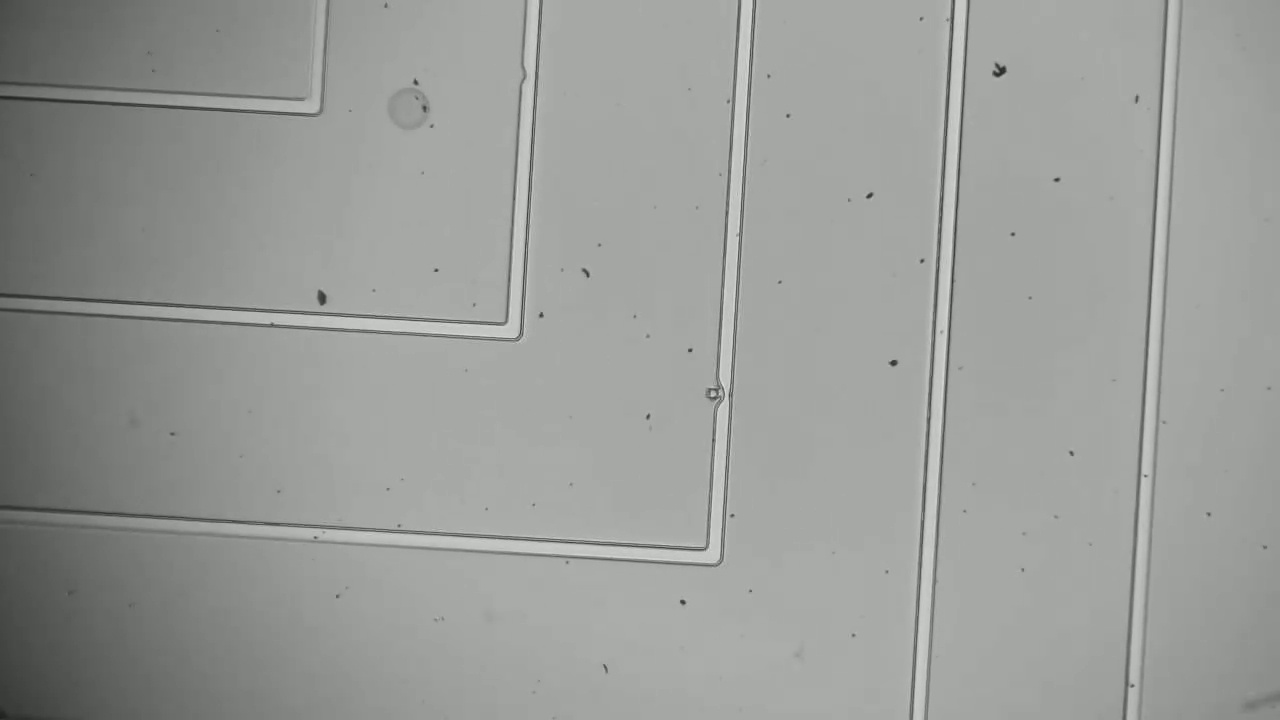edge_bite: (699, 374, 740, 421), (509, 54, 552, 95)
